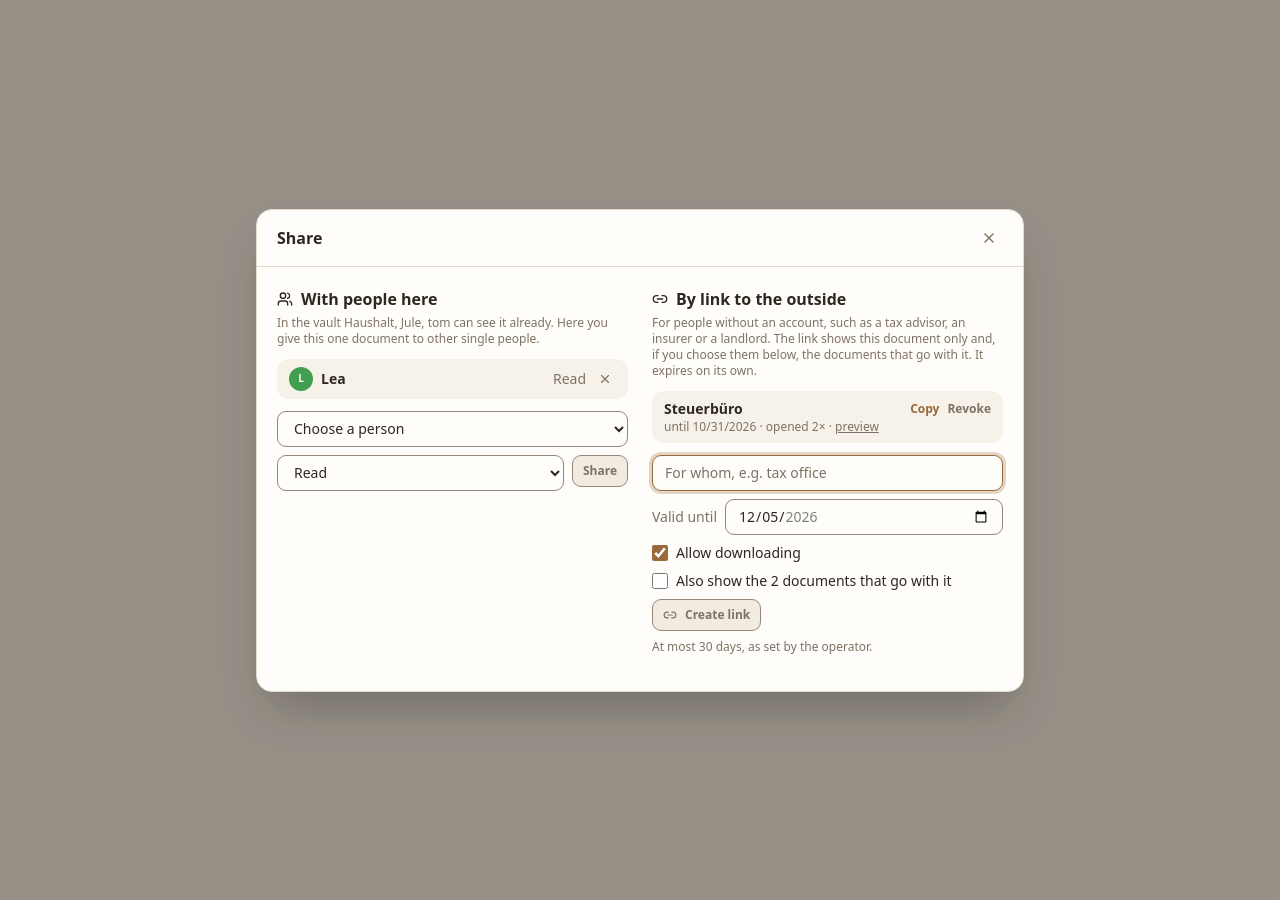
Test: a link that shows what goes with the document (N2) › says it in English too, and not once the protected one is left out
Click the checkbox labelled "Also show the 2 documents that go with it". click: (660, 580)
box: [652, 572, 668, 588]
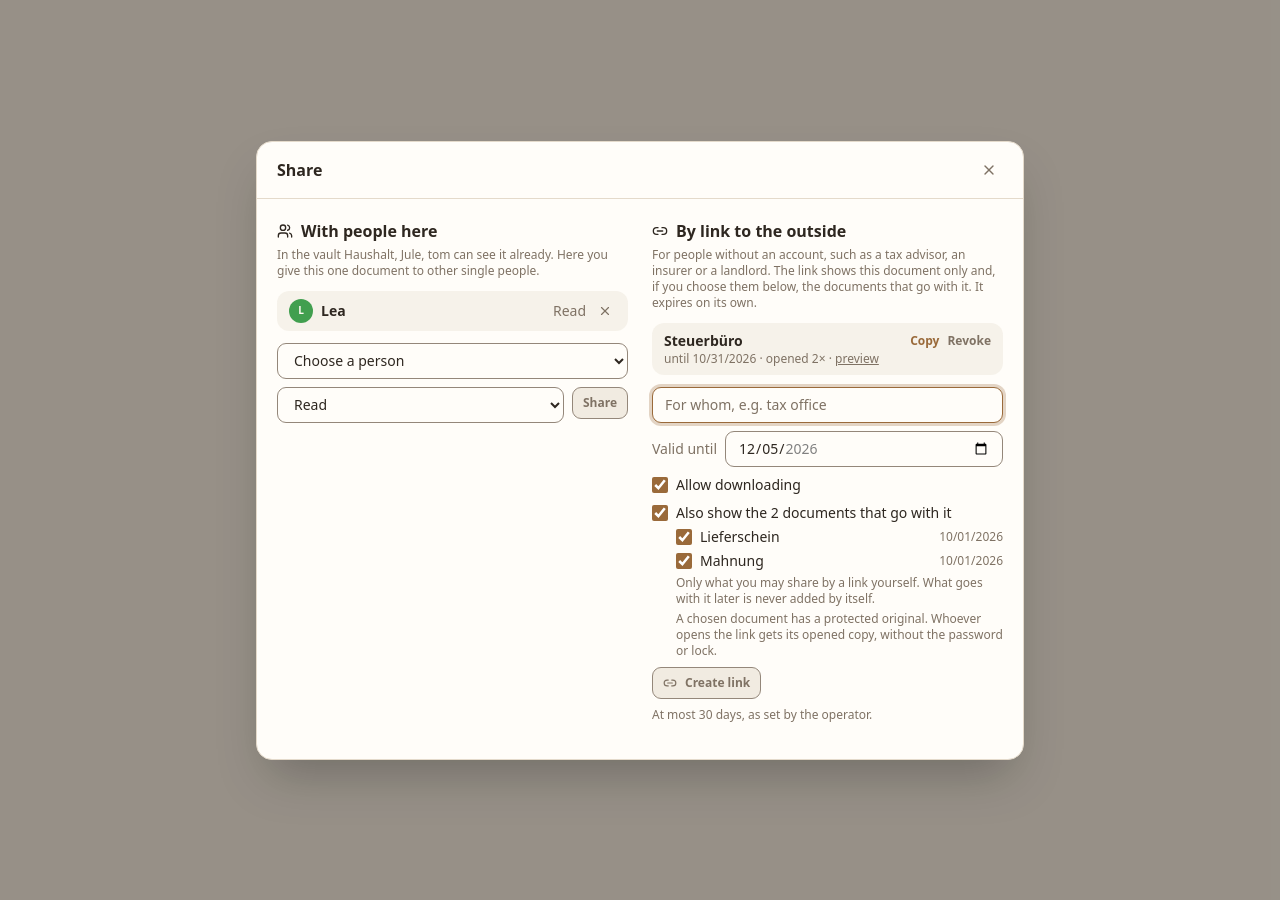
expect the text with test id "share-protected-also" shows "A chosen document has a protected original. Whoever opens the link gets its opened copy, without the password or lock.": met, box [676, 610, 1003, 658]
expect the checkbox labelled "Mahnung 10/01/2026" is shown: met
Click the checkbox labelled "Mahnung 10/01/2026". click: (684, 560)
box: [676, 552, 692, 568]
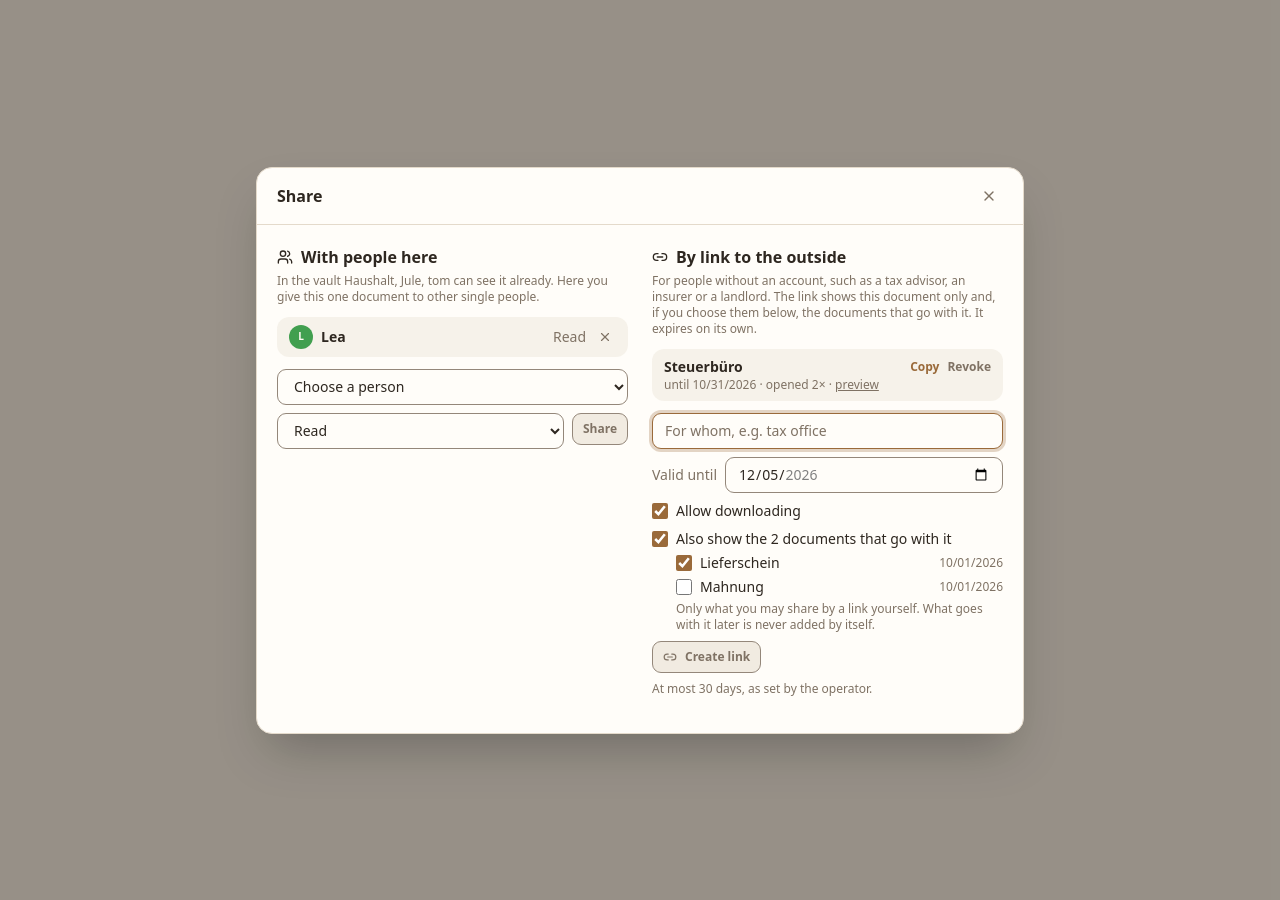
expect the text with test id "share-protected-also" is gone: met
